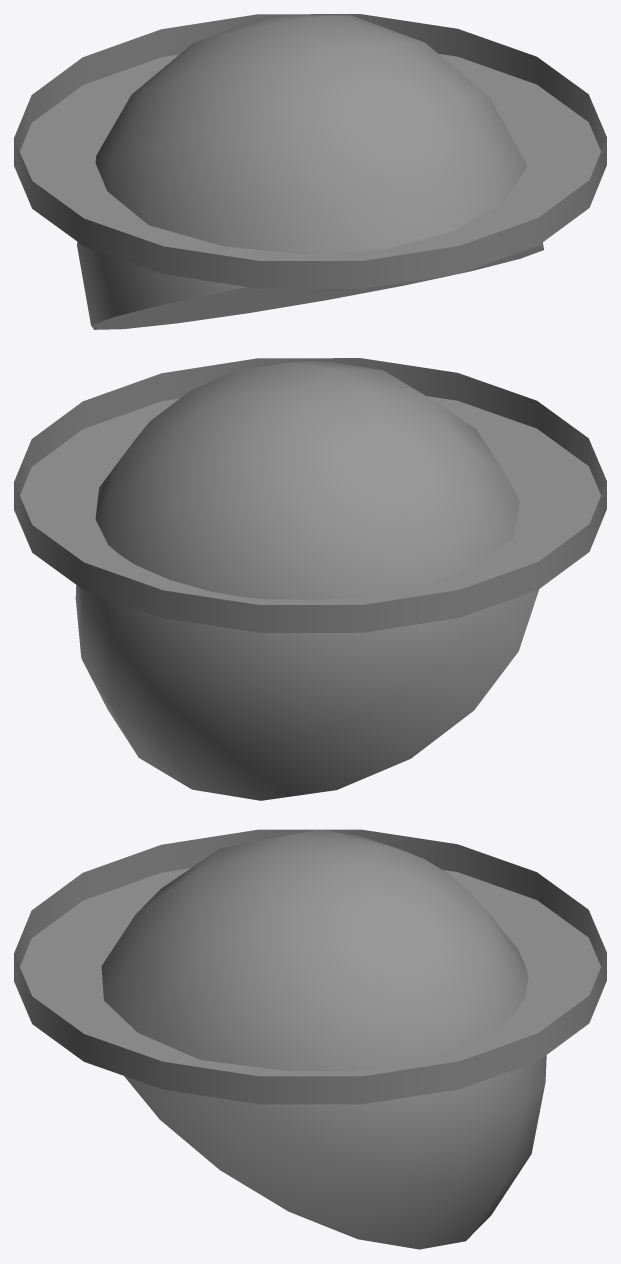
Rendered from CCTV_Round 1.fbx.
3 views of the same model, one above another, from view 1: azimuth 30°, elevation 25°; view 2: azimuth 150°, elevation 25°; view 3: azimuth 270°, elevation 25° (orthographic).
Visible parts, largest first — view 1: CCTV_Round; view 2: CCTV_Round; view 3: CCTV_Round.
Boxes of the visible parts, bbox=[...] form: CCTV_Round: bbox=[14, 14, 606, 329]; CCTV_Round: bbox=[14, 358, 606, 800]; CCTV_Round: bbox=[14, 829, 606, 1249].
Bounding box in the file's own units: 45.64 × 29.97 × 46.32.
1 material, 1 textured.
